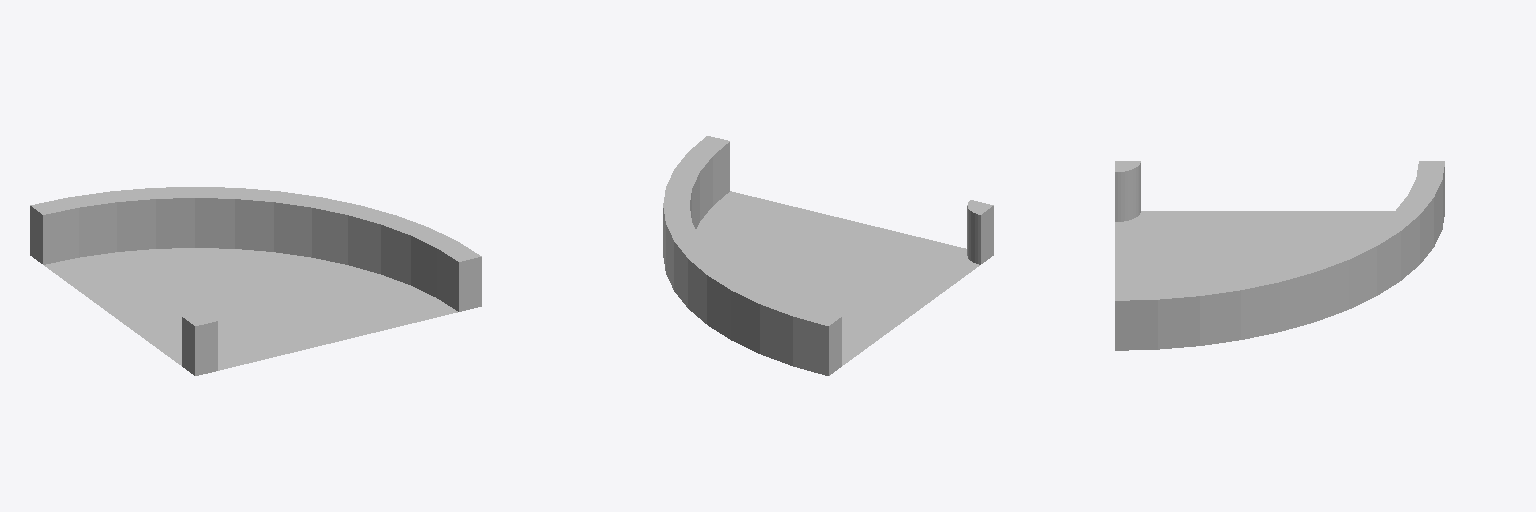
File: left90.obj
3 renders of one model, left to right at view 1: azimuth 30°, elevation 25°; view 2: azimuth 150°, elevation 25°; view 3: azimuth 270°, elevation 25°, orthographic.
Parts seen in each view (by area): view 1: Plane.037_Plane.107; view 2: Plane.037_Plane.107; view 3: Plane.037_Plane.107.
Part boxes in pixels (left/top/right/bottom): Plane.037_Plane.107: left=30, top=187, right=481, bottom=375; Plane.037_Plane.107: left=663, top=136, right=993, bottom=375; Plane.037_Plane.107: left=1115, top=161, right=1444, bottom=350.
Bounding box in the file's own units: 6 × 1 × 6.